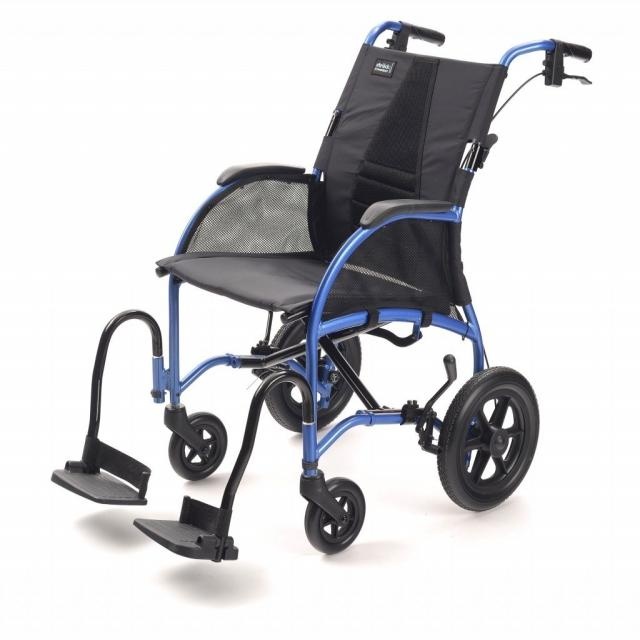wheelchair: (32, 13, 607, 569)
